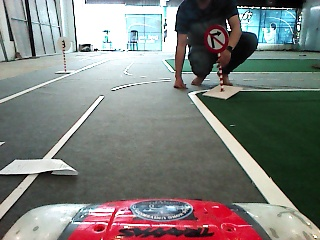ban_right: (203, 24, 229, 52)
